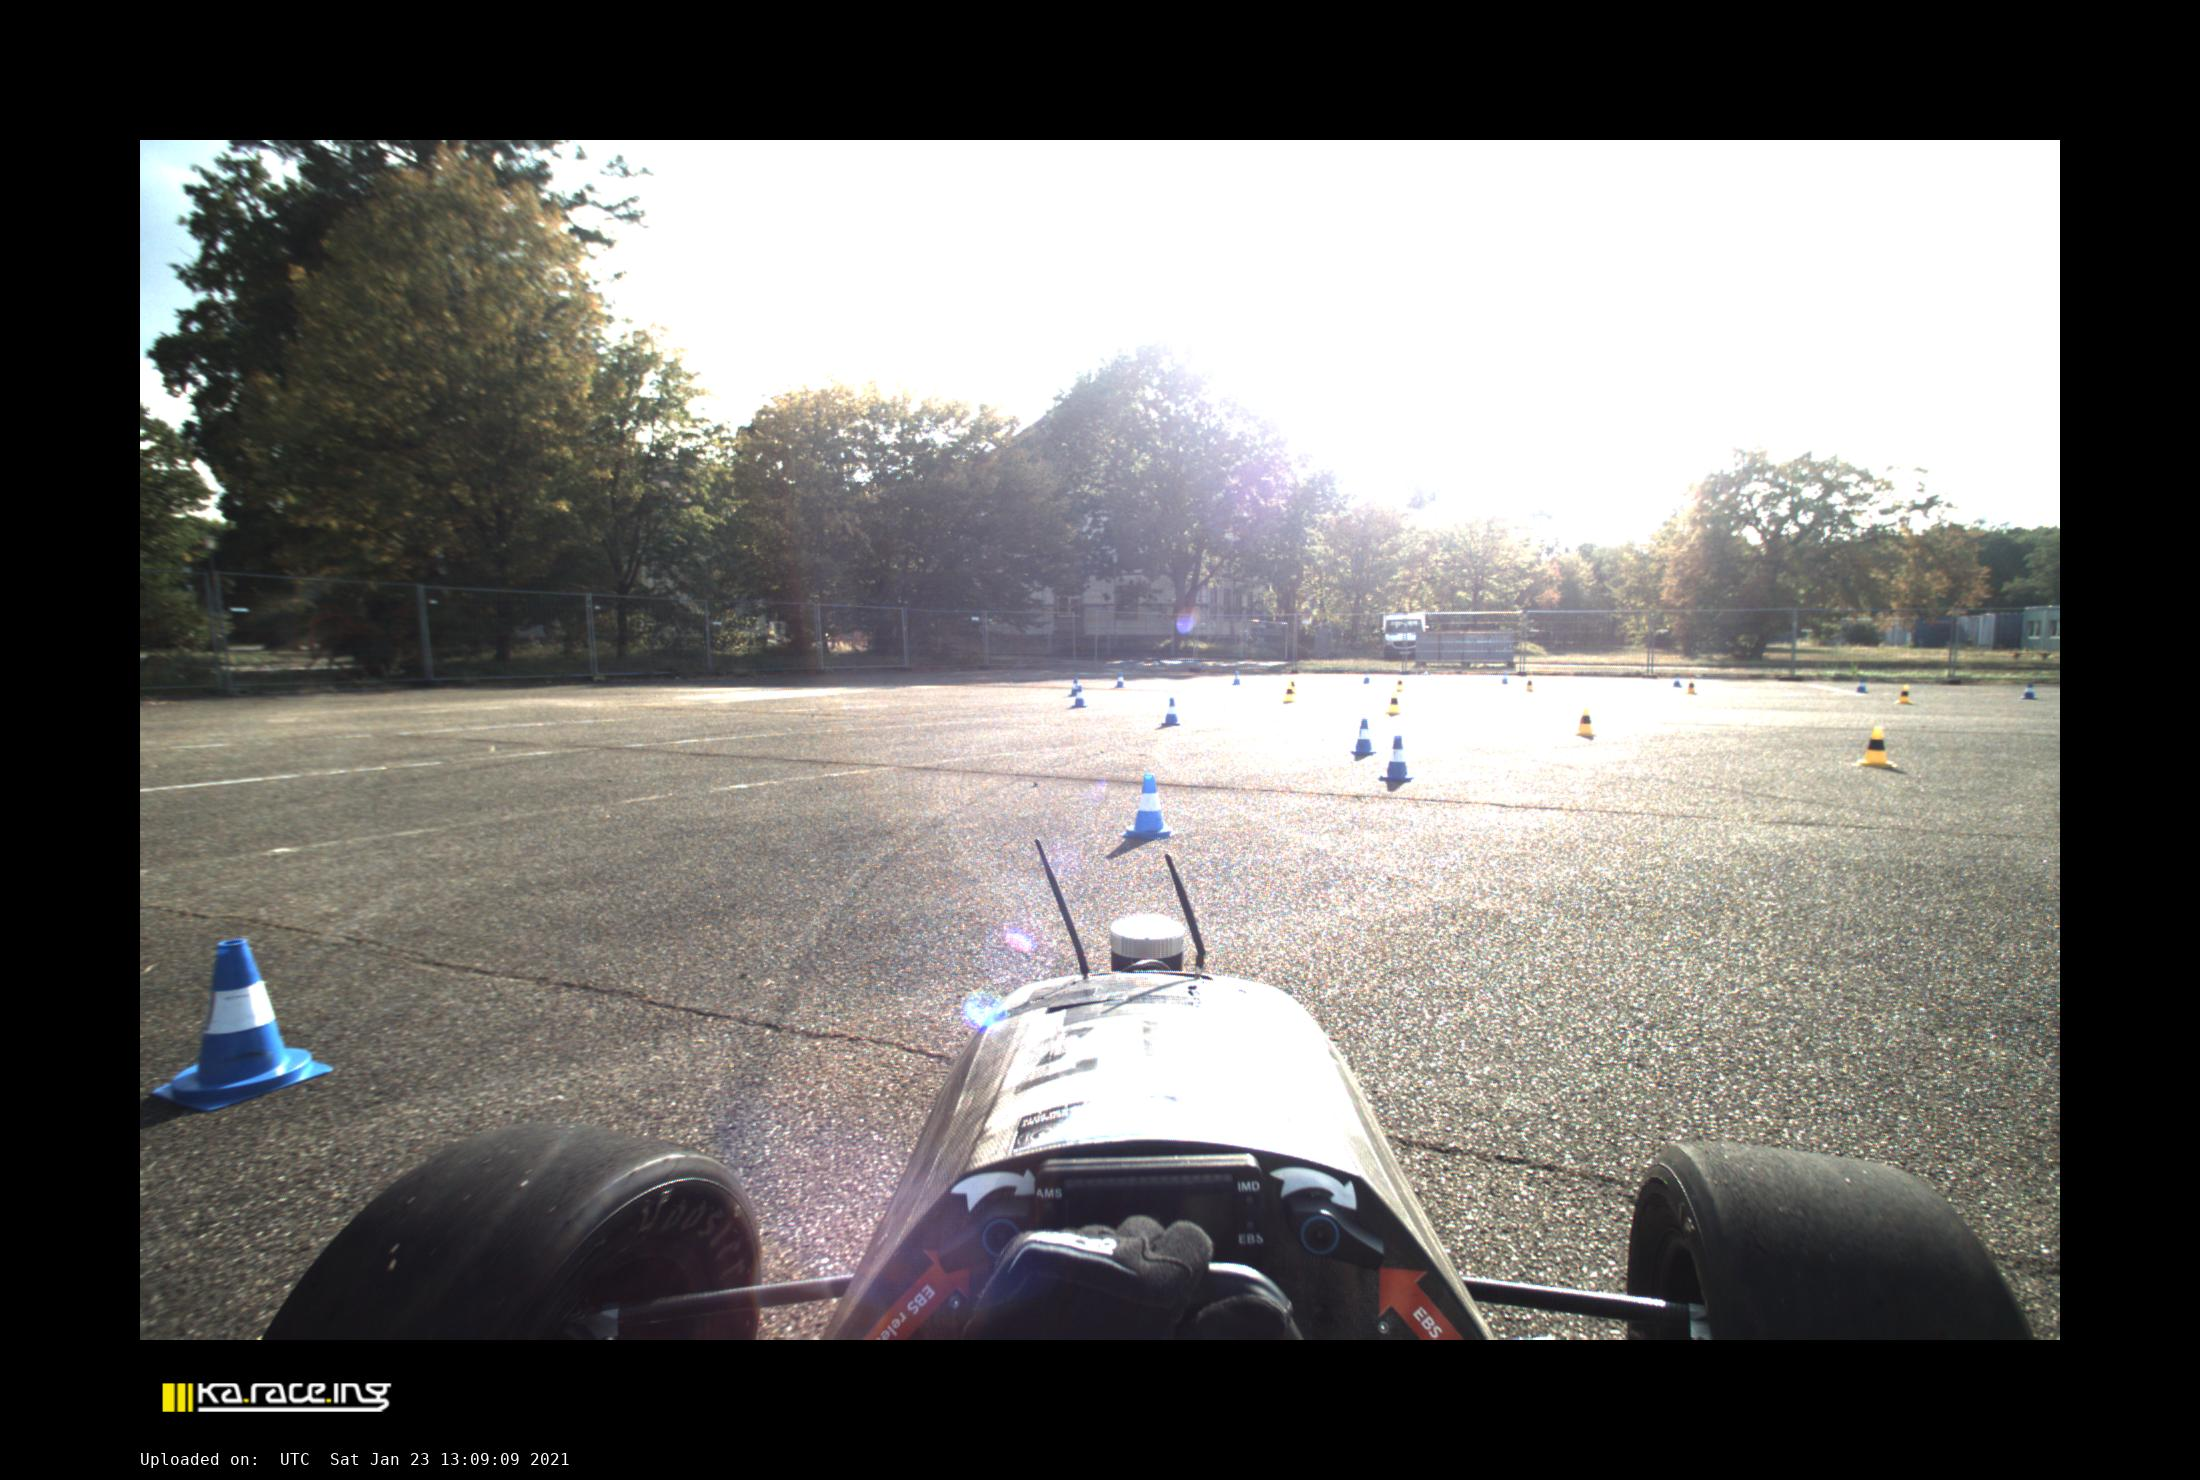blue_cone: (150, 938, 334, 1112), (1123, 773, 1171, 837), (1377, 735, 1414, 781), (1353, 717, 1377, 753), (1161, 697, 1179, 727), (1070, 685, 1088, 709), (2022, 682, 2038, 699), (1067, 677, 1079, 697), (1856, 677, 1870, 694), (1673, 672, 1683, 689), (1115, 672, 1125, 687), (1230, 671, 1240, 685), (1363, 669, 1369, 685), (1501, 671, 1508, 685)
yellow_cone: (1858, 727, 1898, 768), (1574, 709, 1595, 737), (1896, 684, 1913, 704), (1386, 694, 1401, 715), (1282, 685, 1297, 704), (1685, 677, 1698, 695), (1287, 677, 1297, 694), (1524, 677, 1534, 694), (1396, 676, 1402, 694)
